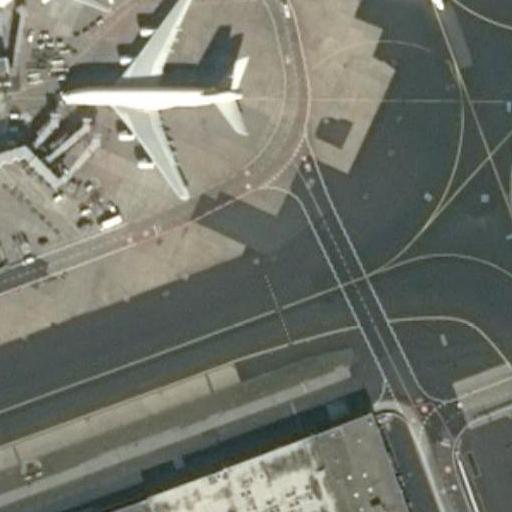Aircraft: (56, 0, 252, 200), (53, 0, 246, 202), (0, 0, 124, 22), (0, 0, 122, 22), (375, 0, 462, 13), (375, 0, 464, 8)
